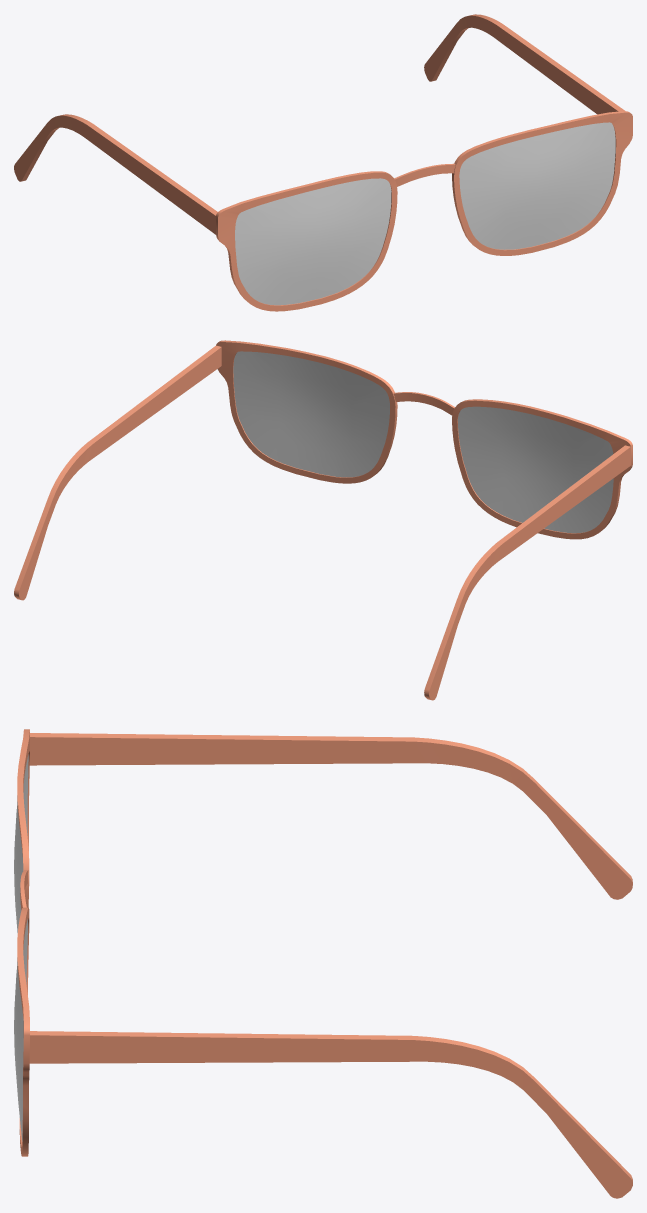
The model's file is PRADA Glasses Optimized.fbx.
3 renders of one model, top to bottom at view 1: azimuth 30°, elevation 25°; view 2: azimuth 150°, elevation 25°; view 3: azimuth 270°, elevation 25°, orthographic. The views are drawn at different scales.
Parts seen in each view (by area): view 1: PRADA Glasses Optimized; view 2: PRADA Glasses Optimized; view 3: PRADA Glasses Optimized.
Part boxes in pixels (box(x1,y1,x2,y2)): PRADA Glasses Optimized: box(14, 14, 632, 311); PRADA Glasses Optimized: box(14, 340, 632, 700); PRADA Glasses Optimized: box(14, 729, 632, 1198).
Size of the model in its own units: 0.1671 by 0.0471 by 0.1445.
